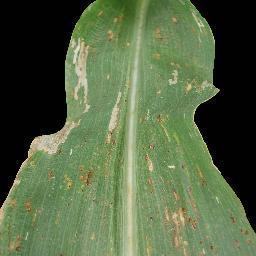Corn_Common_Rust: (15, 26, 93, 164), (153, 201, 256, 256), (0, 186, 42, 256), (163, 62, 221, 105), (13, 163, 98, 187), (103, 86, 126, 150), (142, 135, 169, 189), (151, 10, 187, 49), (100, 9, 125, 46), (187, 0, 217, 30), (139, 108, 170, 132), (192, 163, 212, 190), (138, 233, 153, 256), (79, 186, 99, 202), (168, 160, 186, 174), (150, 80, 162, 99), (169, 186, 182, 201)
